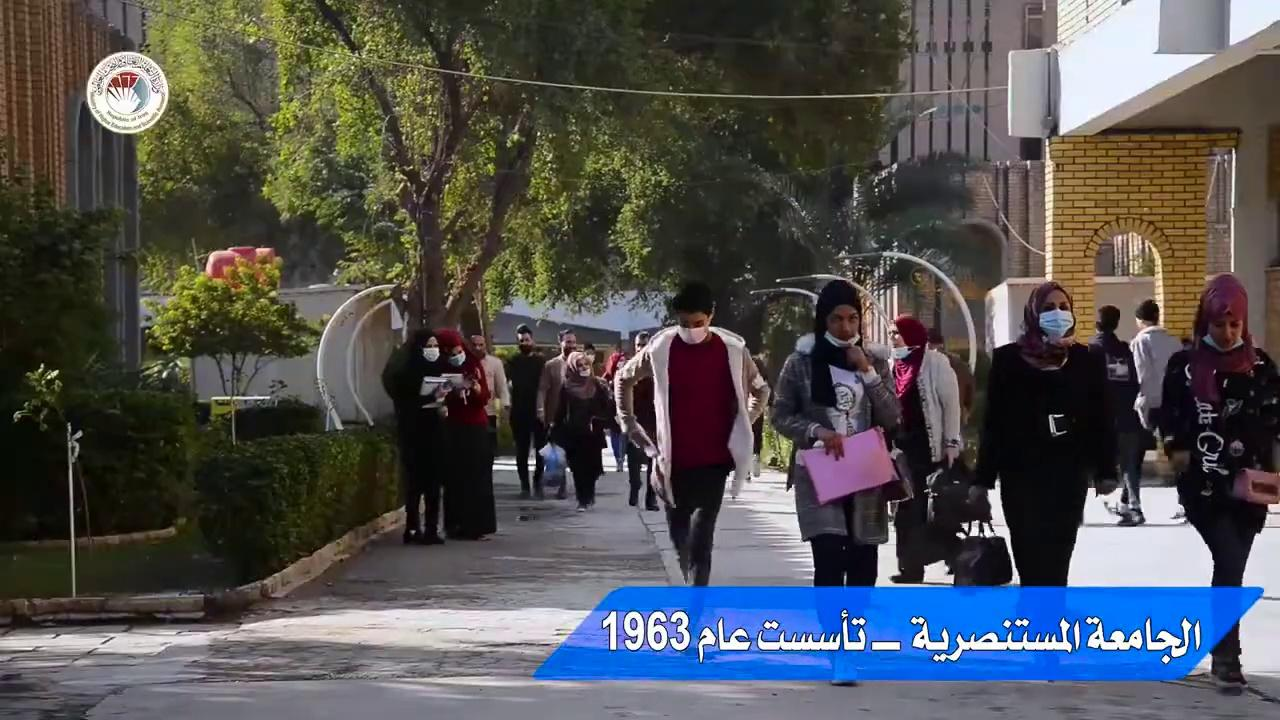person: (1158, 272, 1279, 688), (613, 281, 770, 585), (969, 280, 1119, 586), (770, 278, 903, 587), (380, 326, 488, 545), (879, 314, 964, 583), (1116, 298, 1185, 526), (1087, 304, 1147, 526)
tree: (240, 0, 716, 348), (0, 132, 128, 528), (143, 243, 327, 442), (202, 394, 356, 570)
